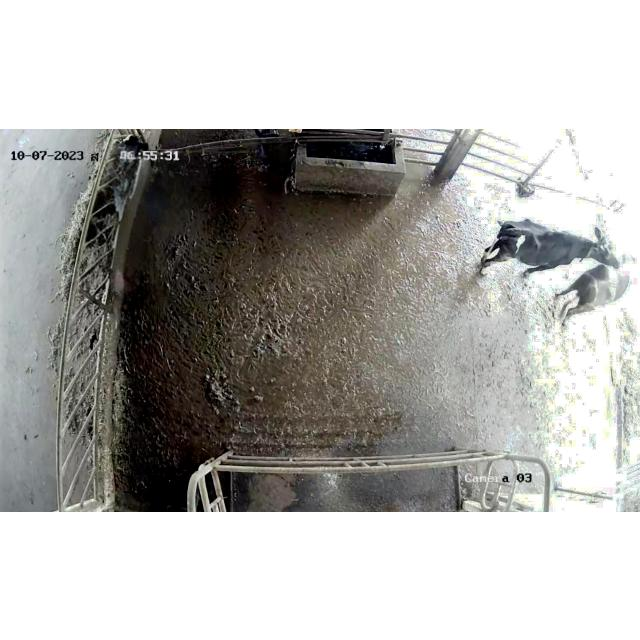propping: (578, 220, 626, 292)
